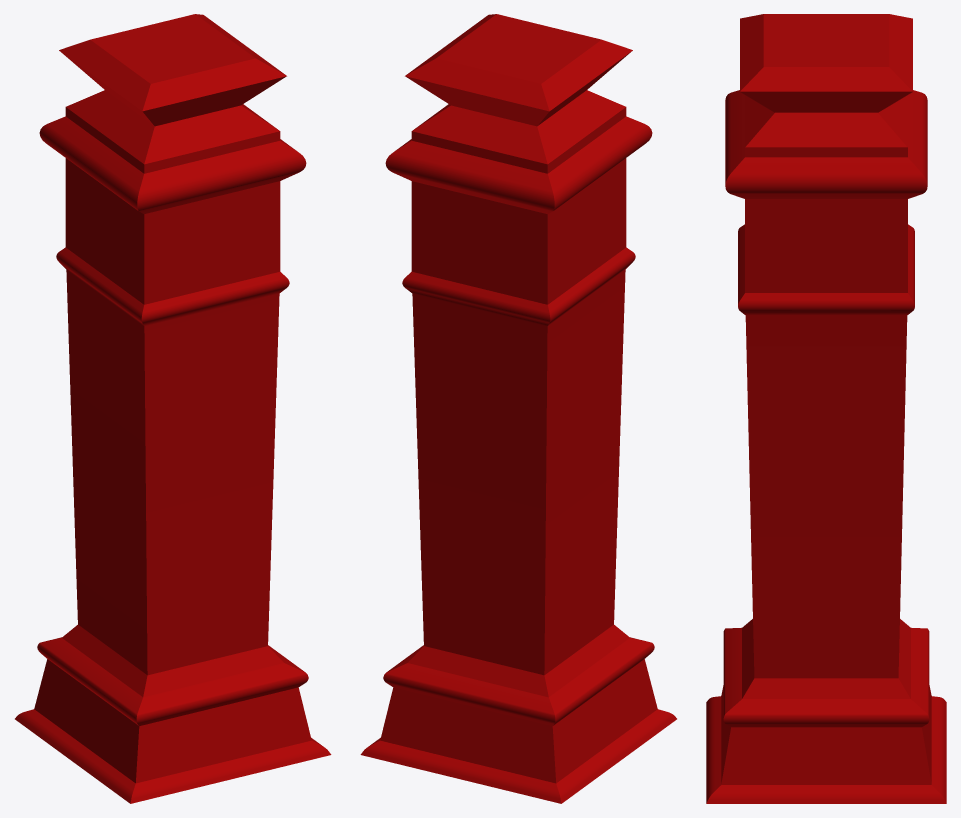
The model's file is Intersection1.fbx.
The picture shows the model from 3 angles, left to right: view 1: azimuth 30°, elevation 25°; view 2: azimuth 150°, elevation 25°; view 3: azimuth 270°, elevation 25°; orthographic projection. The views are drawn at different scales.
Visible parts, largest first — view 1: Intersection1; view 2: Intersection1; view 3: Intersection1.
Part boxes in pixels (left/top/right/bottom): Intersection1: left=15, top=14, right=331, bottom=803; Intersection1: left=360, top=14, right=676, bottom=803; Intersection1: left=706, top=14, right=946, bottom=803.
Size of the model in its own units: 90.47 by 296 by 90.47.
